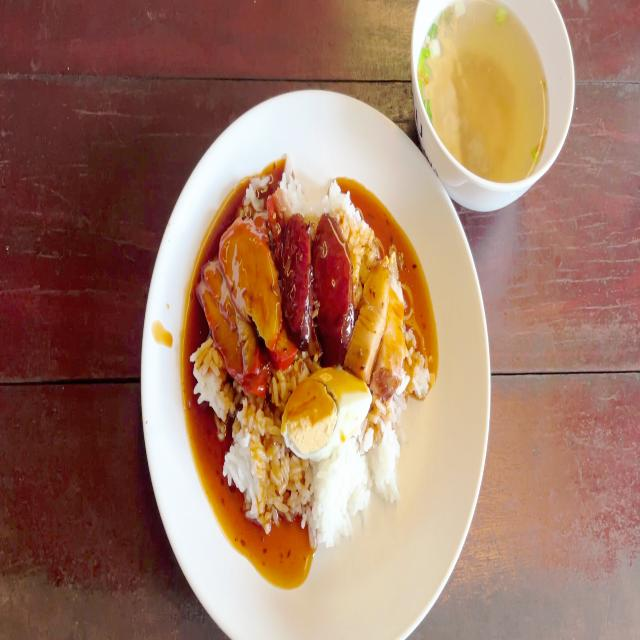boiled_egg: (283, 371, 367, 444)
chainese_sausage: (280, 213, 351, 359), (310, 208, 350, 362), (278, 215, 310, 345)
crispy_pork: (354, 247, 404, 388), (355, 266, 383, 371), (382, 256, 397, 388)
red_pork: (196, 218, 288, 391), (222, 216, 282, 346), (201, 259, 260, 386), (273, 326, 296, 369)
red_pork_and_crispy_pork: (193, 165, 427, 541)
rice: (221, 410, 286, 518), (312, 434, 368, 546), (374, 394, 402, 488), (195, 338, 229, 409), (270, 166, 304, 209), (325, 177, 360, 218), (412, 355, 432, 399)
